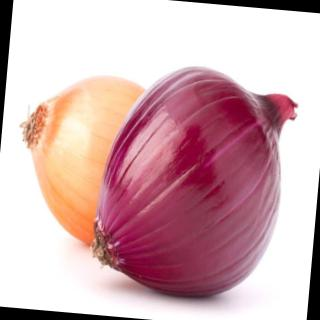Bawang Merah: (86, 57, 305, 309)
